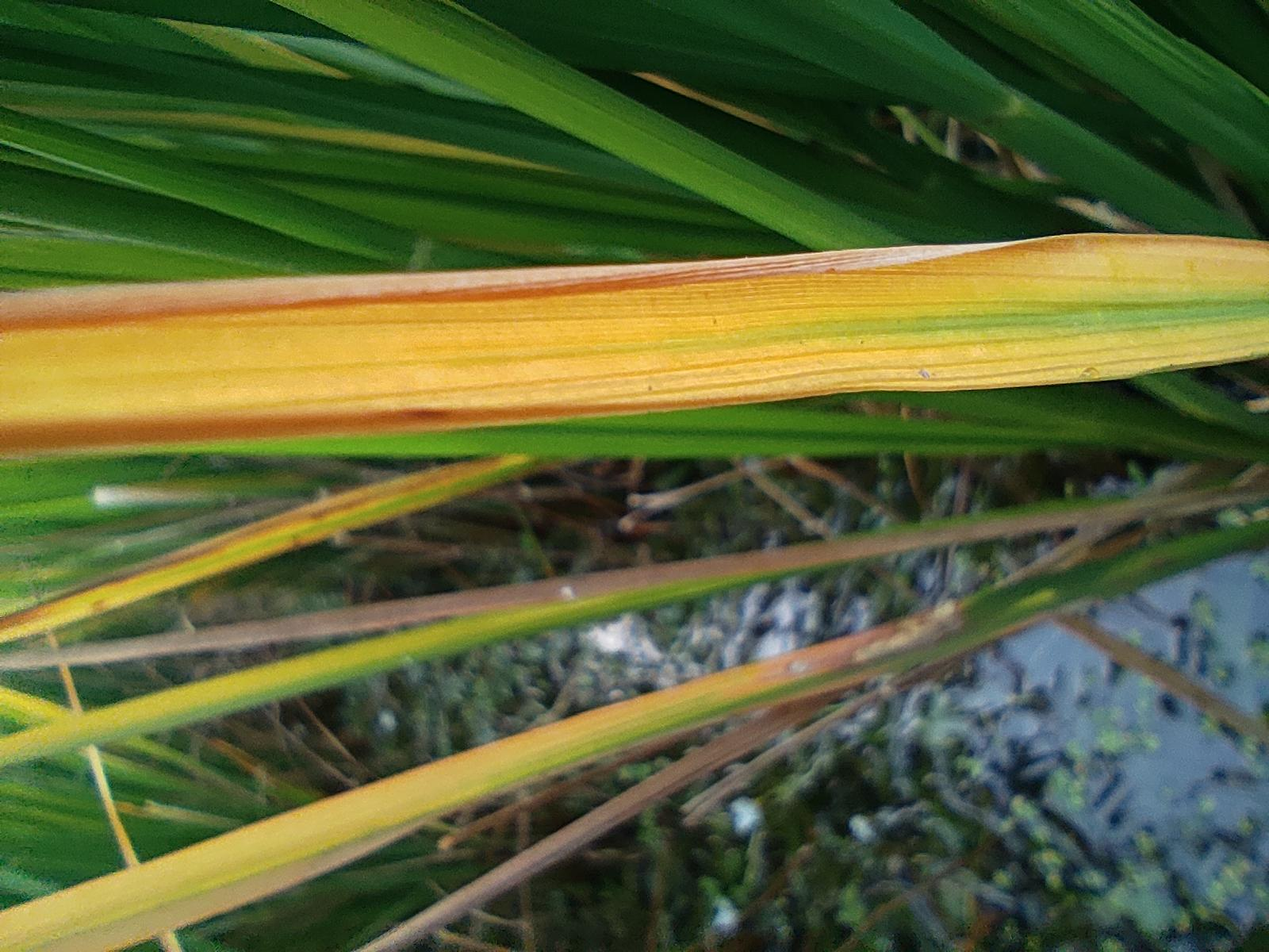BLB: (823, 0, 955, 792), (659, 0, 756, 657)
LEAF: (658, 0, 957, 951)
